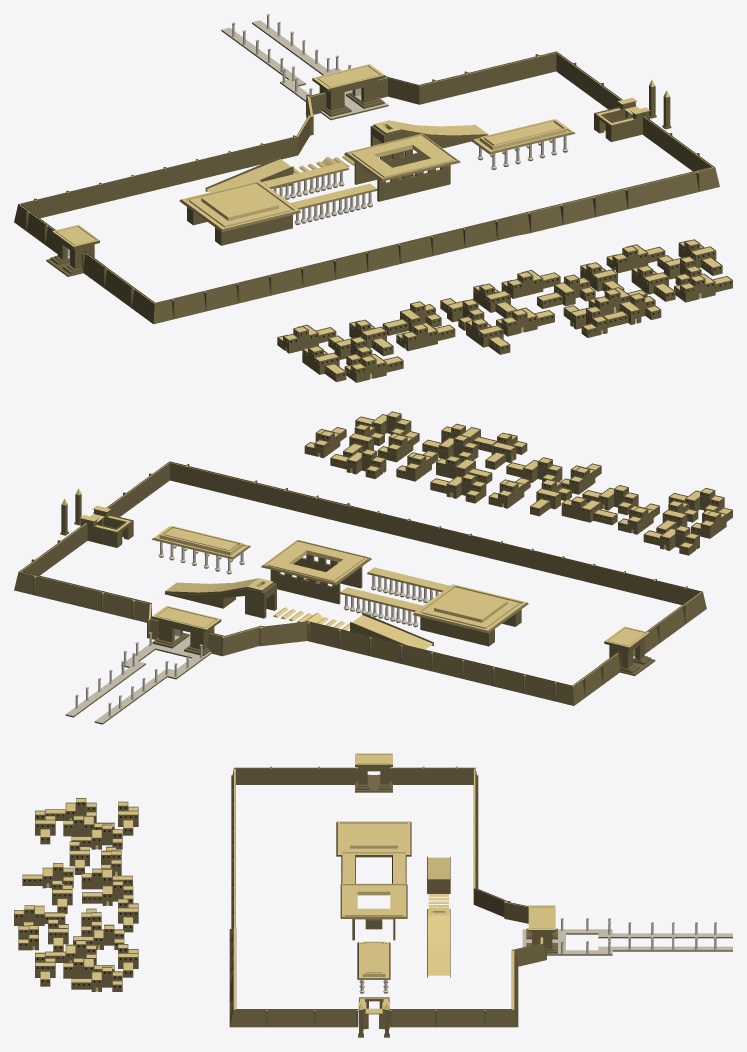
Rendered from EgyptianCity.fbx.
3 renders of one model, top to bottom at view 1: azimuth 30°, elevation 25°; view 2: azimuth 150°, elevation 25°; view 3: azimuth 270°, elevation 25°, orthographic. The views are drawn at different scales.
Visible parts, largest first — view 1: pCube25; view 2: pCube25; view 3: pCube25.
Boxes of the visible parts, x1,y1,x2,y2 form: pCube25: [14, 14, 732, 382]; pCube25: [14, 411, 732, 724]; pCube25: [14, 753, 732, 1037].
Bounding box in the file's own units: 4.59 × 0.2909 × 5.33.
